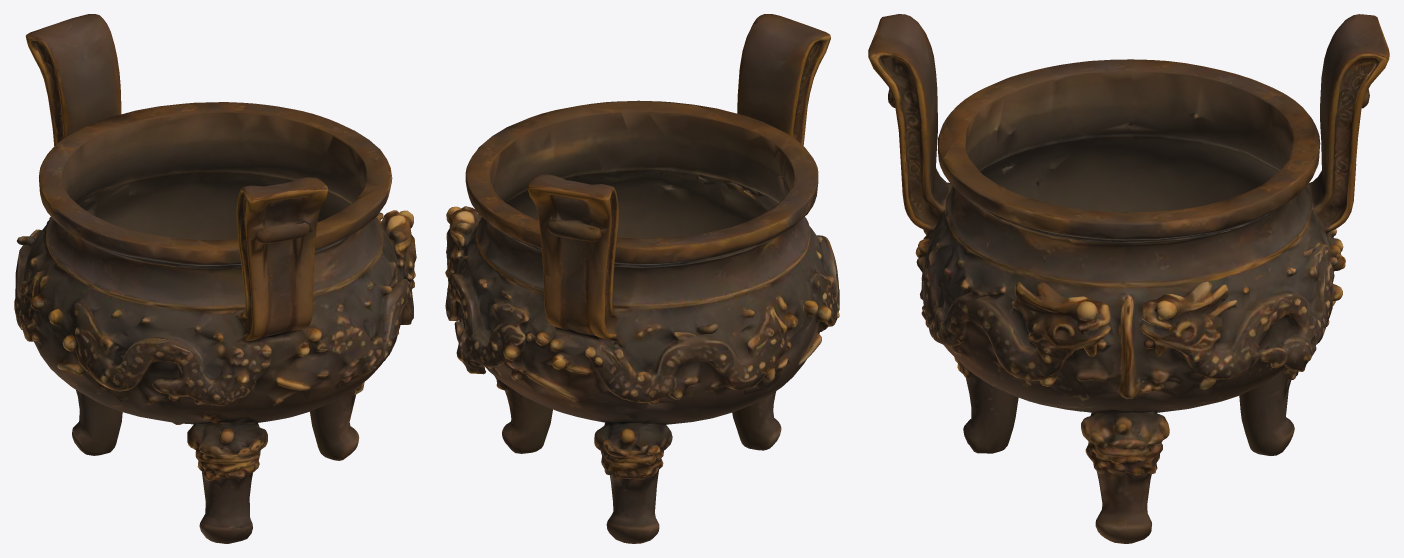
Rendered from burner.glb.
3 views of the same model, side by side, from view 1: azimuth 30°, elevation 25°; view 2: azimuth 150°, elevation 25°; view 3: azimuth 270°, elevation 25° (orthographic). The views are drawn at different scales.
Visible parts, largest first — view 1: tripo_node_dbfe70b5-099a-43aa-9f0d-b5b11ad357df; view 2: tripo_node_dbfe70b5-099a-43aa-9f0d-b5b11ad357df; view 3: tripo_node_dbfe70b5-099a-43aa-9f0d-b5b11ad357df.
Boxes of the visible parts, left/top/right/bottom form: tripo_node_dbfe70b5-099a-43aa-9f0d-b5b11ad357df: left=14, top=14, right=416, bottom=543; tripo_node_dbfe70b5-099a-43aa-9f0d-b5b11ad357df: left=445, top=14, right=839, bottom=543; tripo_node_dbfe70b5-099a-43aa-9f0d-b5b11ad357df: left=868, top=14, right=1389, bottom=543.
Size of the model in its own units: 0.8476 by 0.8992 by 0.9992.
1 material, 1 textured.
